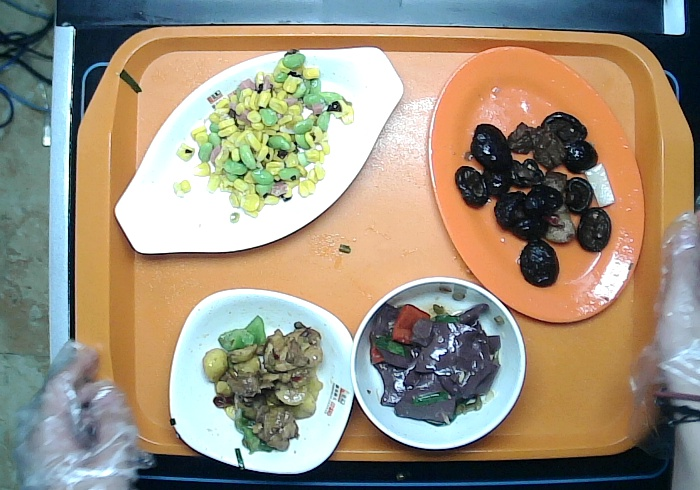NLDX-Bai_Se_Xiao_Fang_Die: (169, 289, 357, 475)
NLDX-Fan_Wan: (351, 276, 527, 450)
NLDX-Ju_Se_Pan: (429, 46, 646, 326)
NLDX-Yu_Pan: (113, 46, 403, 254)
